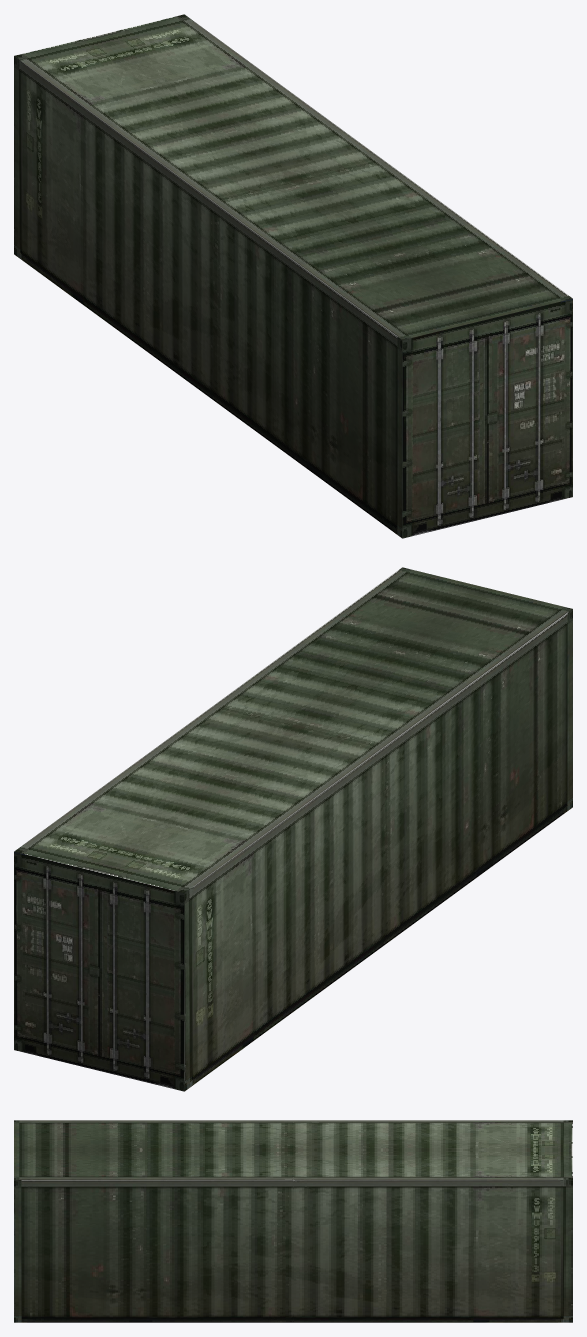
The model's file is shipping container.glb.
3 renders of one model, top to bottom at view 1: azimuth 30°, elevation 25°; view 2: azimuth 150°, elevation 25°; view 3: azimuth 270°, elevation 25°, orthographic. The views are drawn at different scales.
Parts seen in each view (by area): view 1: Cube.086; view 2: Cube.086; view 3: Cube.086.
Boxes of the visible parts, x1,y1,x2,y2 form: Cube.086: [14, 14, 572, 538]; Cube.086: [14, 567, 572, 1091]; Cube.086: [14, 1120, 572, 1322].
Bounding box in the file's own units: 4.31 × 4.8 × 17.02.
Materials: 1 (1 with a texture image).
